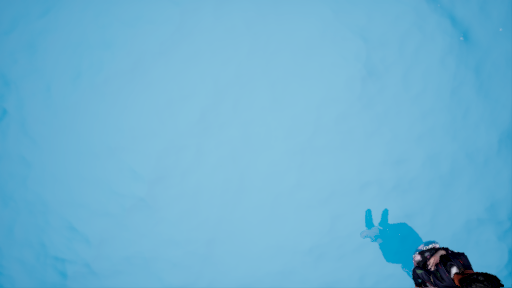person: (358, 203, 508, 288)
